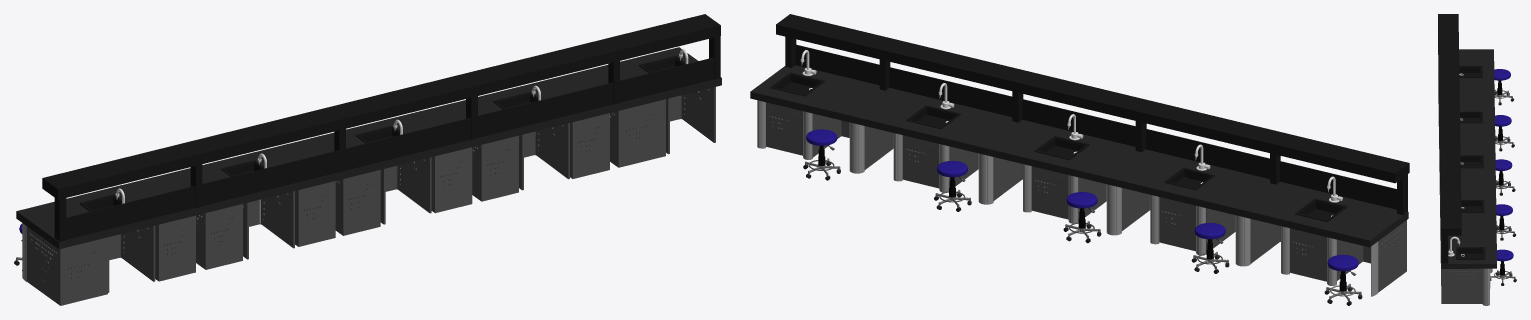
The model's file is R mid bench.fbx.
3 views of the same model, side by side, from view 1: azimuth 30°, elevation 25°; view 2: azimuth 150°, elevation 25°; view 3: azimuth 270°, elevation 25° (orthographic). The views are drawn at different scales.
Visible parts, largest first — view 1: Cube.113, Cube.124, Cube.107, Cube.110, Cube.126, Cube.118, Cube.125, Cube.122, Cube.123, Cube.112, Cube.111, Cube.127 (+6 smaller); view 2: Cube.124, Cube.113, Cube.107, Cube.110, Cylinder.655, Cylinder.652, Cylinder.659, Cylinder.657, Cylinder.651, Cube.112, Cube.127, Cube.123 (+18 smaller); view 3: Cube.124, Cube.113, Cylinder.659, Cube.114, Cube.102, Cube.115, Cube.119, Cube.116, Cylinder.643, Cube.103, Cylinder.575, Cylinder.510 (+3 smaller).
Part boxes in pixels (<box>): Cube.113: <box>42,14,720,199</box>; Cube.124: <box>16,47,721,249</box>; Cube.107: <box>66,57,713,239</box>; Cube.110: <box>27,226,107,305</box>; Cube.126: <box>610,99,665,167</box>; Cube.118: <box>196,204,242,269</box>; Cube.125: <box>472,135,518,201</box>; Cube.122: <box>335,170,380,235</box>; Cube.123: <box>431,147,472,213</box>; Cube.112: <box>155,215,195,281</box>; Cube.111: <box>295,181,335,246</box>; Cube.127: <box>570,113,609,178</box>; Cube.124: <box>750,65,1408,247</box>; Cube.113: <box>776,14,1409,183</box>; Cube.107: <box>795,44,1396,209</box>; Cube.110: <box>1337,220,1406,292</box>; Cylinder.655: <box>1031,166,1078,222</box>; Cylinder.652: <box>1159,197,1195,251</box>; Cylinder.659: <box>765,102,812,158</box>; Cylinder.657: <box>902,135,939,188</box>; Cylinder.651: <box>1289,228,1326,281</box>; Cube.112: <box>1250,219,1280,263</box>; Cube.127: <box>864,126,893,169</box>; Cube.123: <box>993,157,1022,200</box>; Cube.124: <box>1438,49,1496,268</box>; Cube.113: <box>1438,14,1461,235</box>; Cylinder.659: <box>1441,268,1482,304</box>; Cube.114: <box>1456,247,1485,259</box>; Cube.102: <box>1460,155,1483,168</box>; Cube.115: <box>1461,200,1484,212</box>; Cube.119: <box>1460,111,1482,123</box>; Cube.116: <box>1459,66,1482,77</box>; Cylinder.643: <box>1483,268,1489,305</box>; Cube.103: <box>1441,235,1448,263</box>; Cylinder.575: <box>1495,159,1512,170</box>; Cylinder.510: <box>1494,69,1510,80</box>.
Size of the model in its own units: 1442 by 244 by 223.
